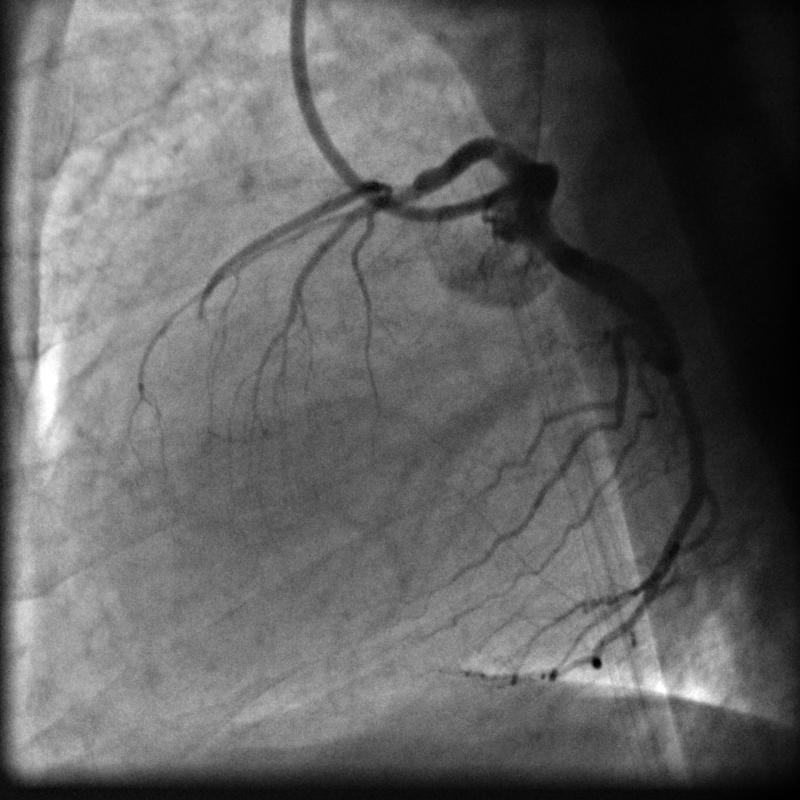Stenosis: (368, 172, 430, 207)
